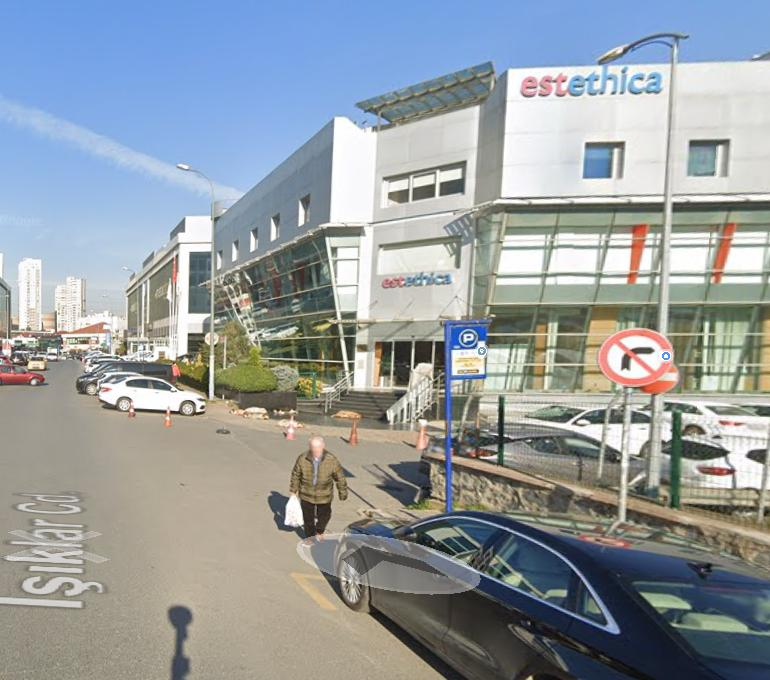park: (447, 322, 486, 347)
rightturnsareforbidden: (601, 331, 675, 381)
